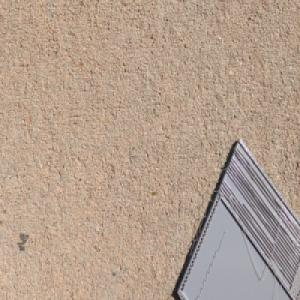PlasticPart: (175, 136, 300, 300)
